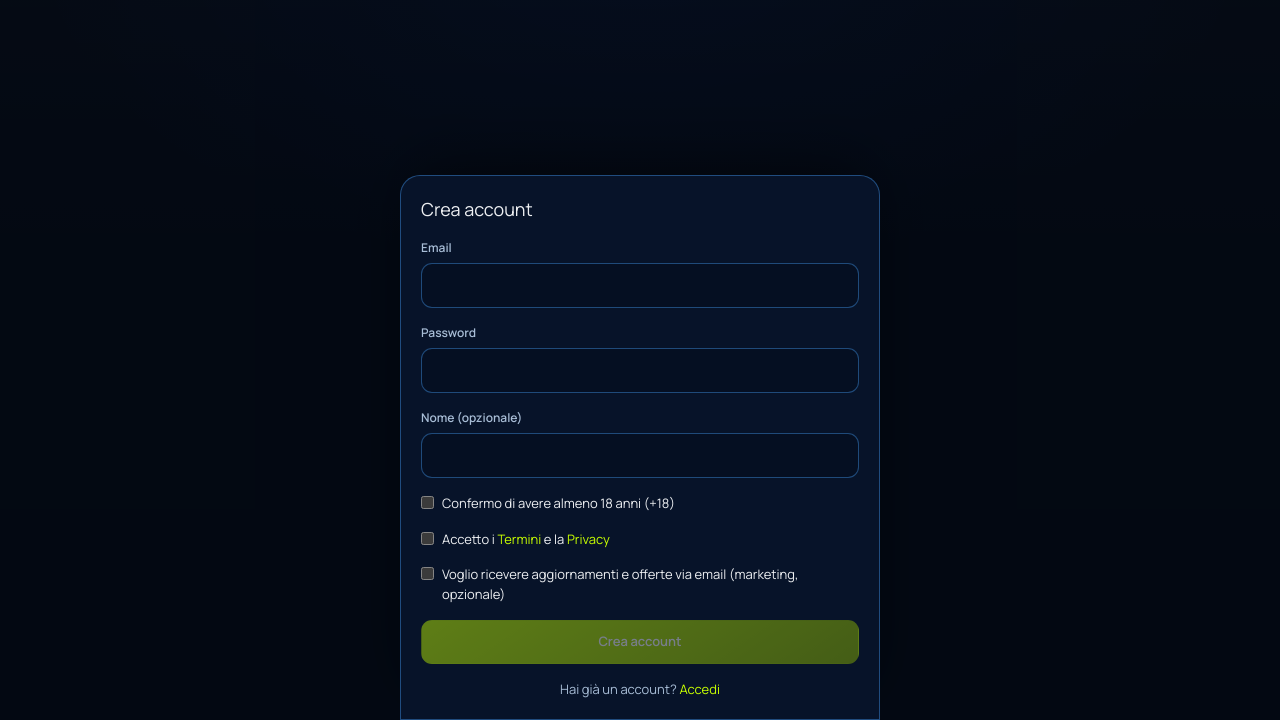
Test: SignupSheet › submit disabilitato finché email+password+entrambe le checkbox obbligatorie non sono compilate
Expected: the button "Crea account" is disabled, [421, 620, 859, 664]
Type "a@b.c" into the field labelled "Email" at (640, 286), box [421, 263, 859, 308]
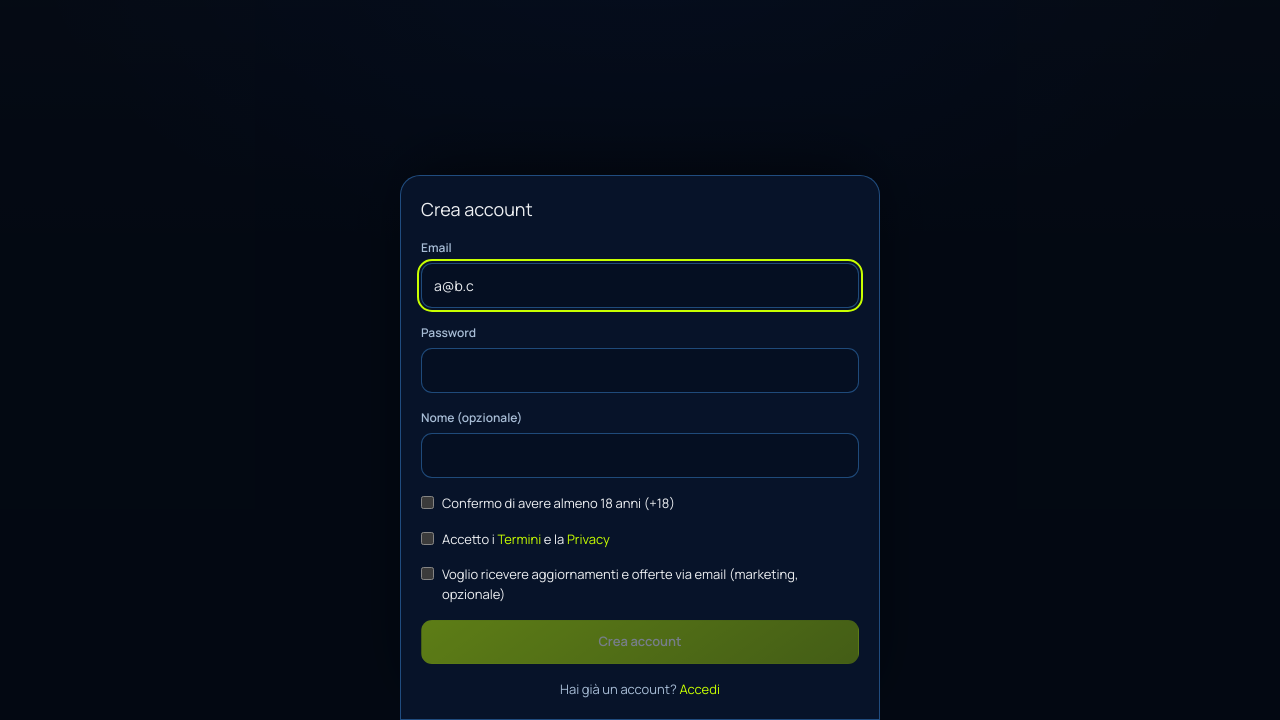
Type "supersecret1" into the password field labelled "Password" at (640, 370), box [421, 348, 859, 393]
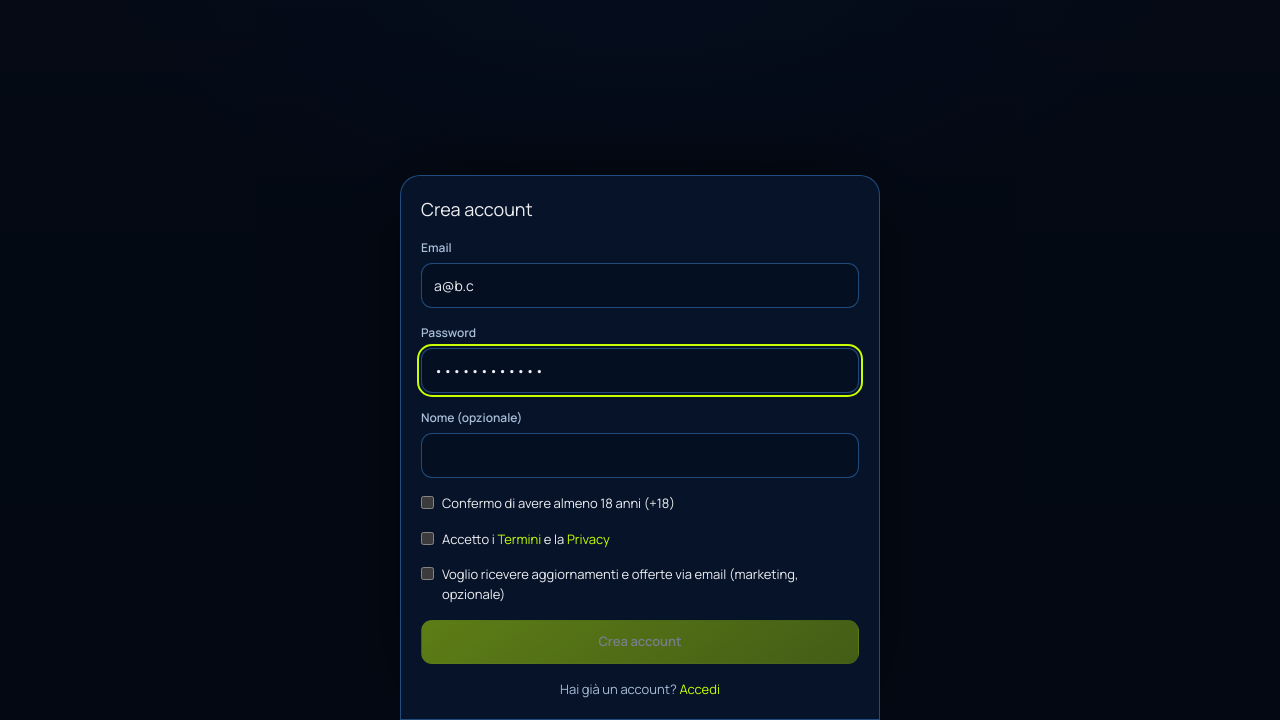
Click the checkbox labelled "Confermo di avere almeno 18 anni (+18)" at (428, 502), box [421, 496, 434, 509]
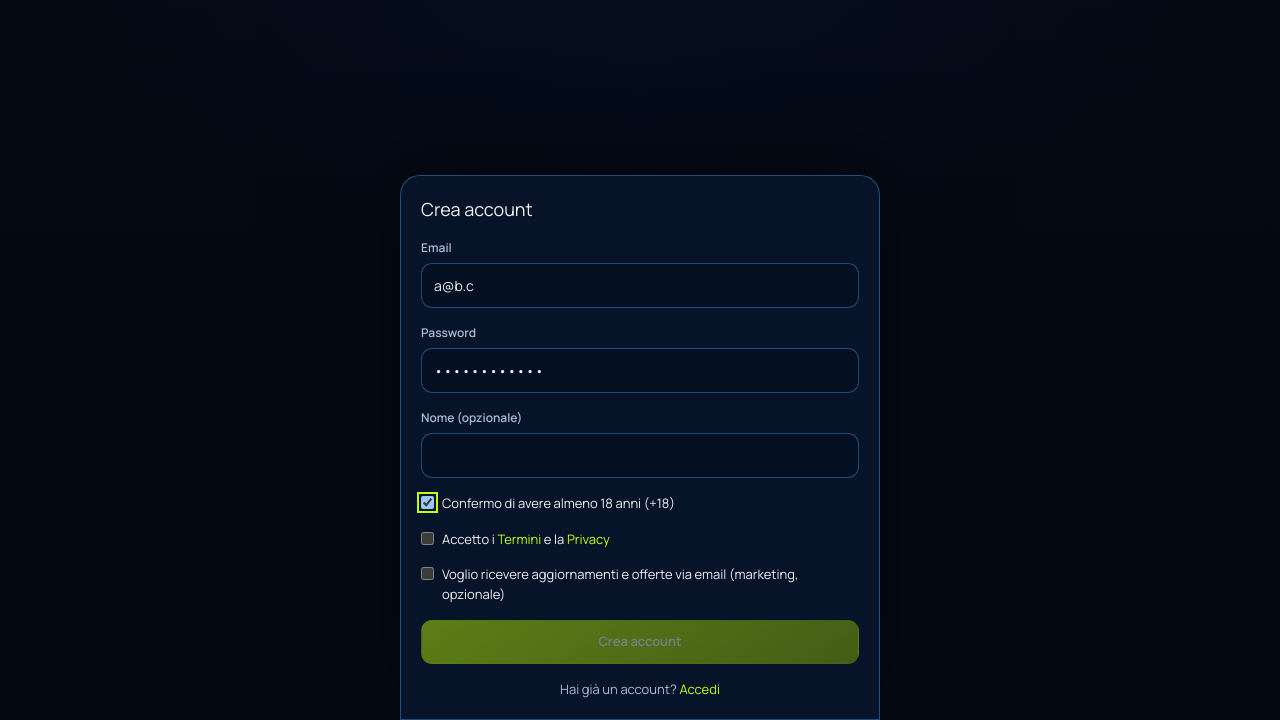
Click the checkbox labelled "Accetto i Termini e la Privacy" at (428, 538), box [421, 532, 434, 544]
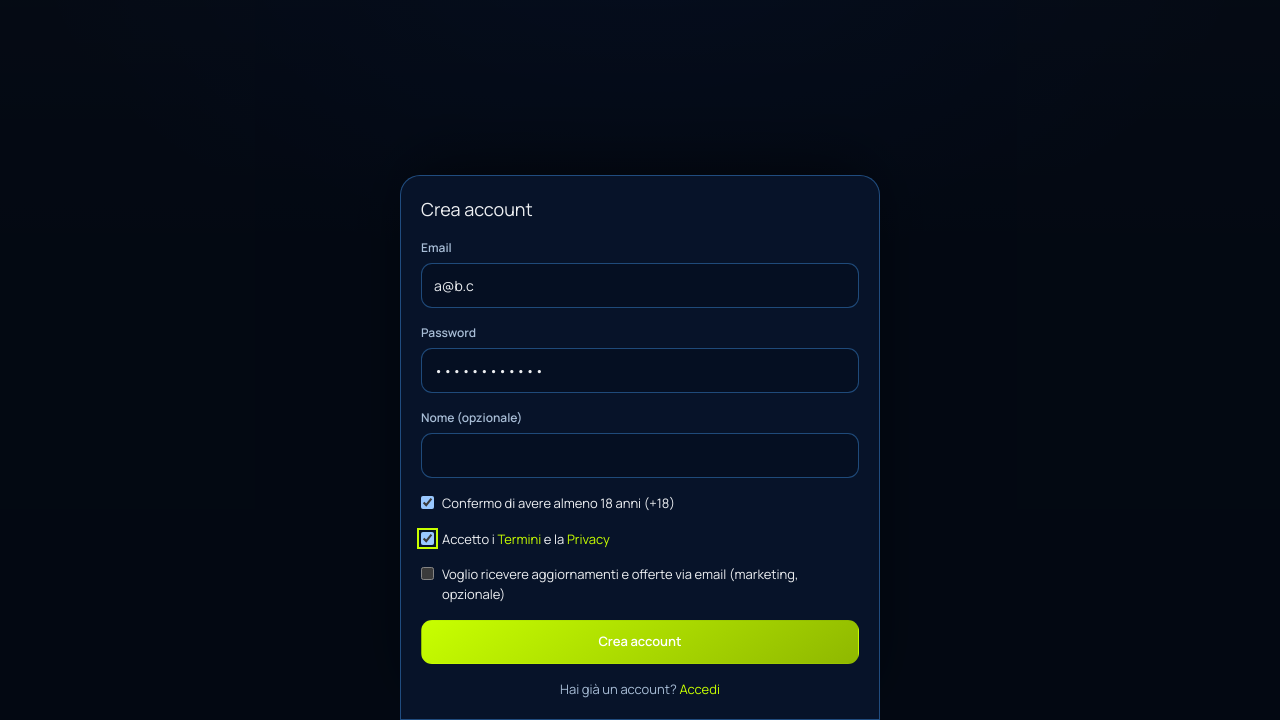
Result: the button "Crea account" is enabled at [421, 620, 859, 664]
